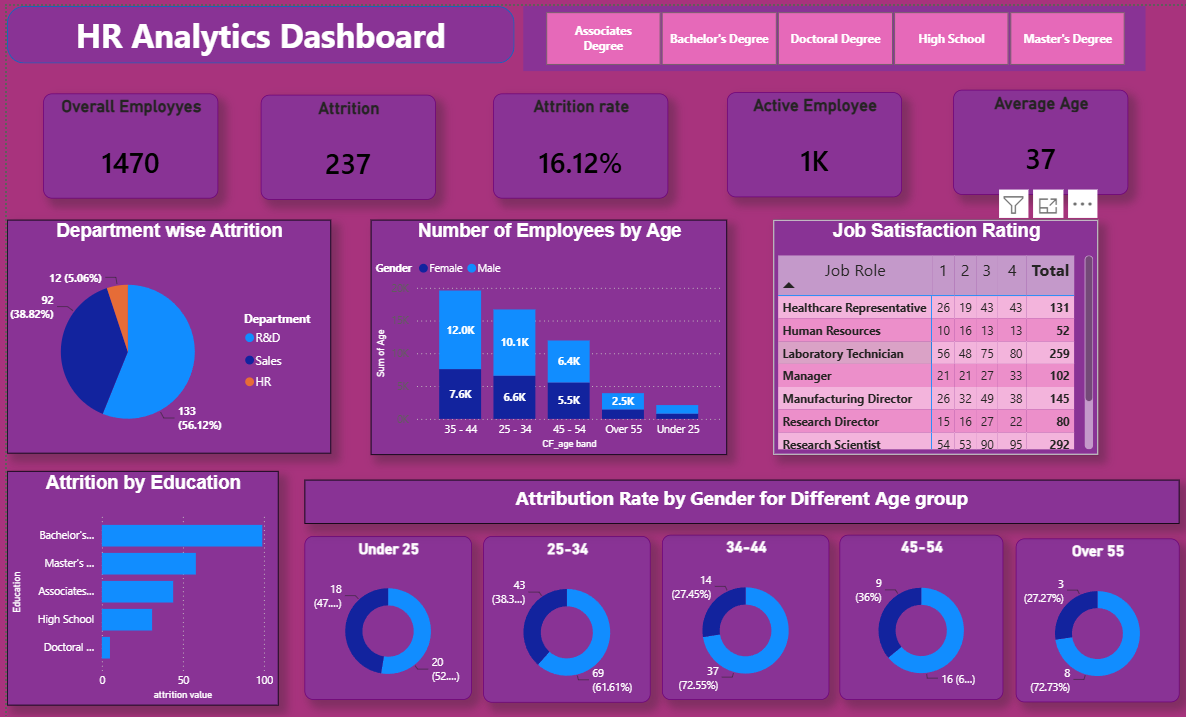

The dashboard page shown, as its layout file describes it:
{"tool":"powerbi","page":{"name":"Page 1","canvas":[1350,820],"ordinal":0},"visuals":[{"type":"cardVisual","title":"Overall Employyes","fields":{"Data":["Count(Table1.Employee Number)"]},"box":[41.4,100,200,120],"z":0},{"type":"cardVisual","title":"Attrition","fields":{"Data":["Table1.attrition value"]},"box":[290,101.4,200,120],"z":1000},{"type":"cardVisual","title":"Attrition rate","fields":{"Data":["Table1.attrition rate"]},"box":[555.7,100,200,120],"z":2000},{"type":"cardVisual","title":"Active Employee","fields":{"Data":["Table1.Measure 3"]},"box":[822.9,98.6,200,120],"z":3000},{"type":"cardVisual","title":"Average Age","fields":{"Data":["Table1.average age"]},"box":[1081.4,95.7,200,120],"z":4000},{"type":"pieChart","title":" Department wise Attrition","fields":{"Y":["Table1.attrition value"],"Category":["Table1.Department"]},"box":[0,244.3,370,267.1],"z":5000},{"type":"pivotTable","title":"Job Satisfaction Rating ","fields":{"Rows":["Table1.Job Role"],"Columns":["Table1.Job Satisfaction"],"Values":["Sum(Table1.Employee Count)"]},"box":[875.7,244.3,371.4,268.6],"z":6000},{"type":"barChart","title":"Attrition by Education","fields":{"Category":["Table1.Education"],"Y":["Table1.attrition value"]},"box":[0,531.4,310,268],"z":7000},{"type":"columnChart","title":"Number of Employees by Age","fields":{"Series":["Table1.Gender"],"Y":["Sum(Table1.Age)"],"Category":["Table1.CF_age band"]},"box":[415.7,244.3,407.1,268.6],"z":8000},{"type":"donutChart","title":"Under 25","fields":{"Category":["Table1.Gender"],"Series":["Table1.CF_age band"],"Y":["Table1.attrition value"]},"box":[340,605.7,191.4,187.1],"z":9000},{"type":"shape","box":[0,0,580,65.7],"z":10000},{"type":"donutChart","title":"25-34","fields":{"Y":["Table1.attrition value"],"Category":["Table1.Gender"],"Series":["Table1.CF_age band"]},"box":[544.3,605.7,191.4,190],"z":11000},{"type":"donutChart","title":"34-44","fields":{"Y":["Table1.attrition value"],"Category":["Table1.Gender"],"Series":["Table1.CF_age band"]},"box":[748.6,604.3,191.4,188.6],"z":12000},{"type":"donutChart","title":"45-54","fields":{"Category":["Table1.Gender"],"Series":["Table1.CF_age band"],"Y":["Table1.attrition value"]},"box":[951.4,604.3,187.1,188.6],"z":13000},{"type":"donutChart","title":"Over 55","fields":{"Y":["Table1.attrition value"],"Category":["Table1.Gender"],"Series":["Table1.CF_age band"]},"box":[1152.9,608.6,187.1,187.1],"z":14000},{"type":"textbox","box":[340,541.4,1000,50],"z":15000},{"type":"slicer","fields":{"Values":["Table1.Education"]},"box":[590,0,711.4,74.3],"z":16000}]}

Visuals, with their boxes in screenshot pixels (x1, y1, x2, y2), scaled from the page's 1350x820 canvas onto the 1186x717 screenshot:
"Overall Employyes" cardVisual: 36, 87, 212, 192
"Attrition" cardVisual: 255, 89, 430, 194
"Attrition rate" cardVisual: 488, 87, 664, 192
"Active Employee" cardVisual: 723, 86, 899, 191
"Average Age" cardVisual: 950, 84, 1126, 189
" Department wise Attrition" pieChart: 0, 214, 325, 447
"Job Satisfaction Rating " pivotTable: 769, 214, 1096, 448
"Attrition by Education" barChart: 0, 465, 272, 699
"Number of Employees by Age" columnChart: 365, 214, 723, 448
"Under 25" donutChart: 299, 530, 467, 693
shape: 0, 0, 510, 57
"25-34" donutChart: 478, 530, 646, 696
"34-44" donutChart: 658, 528, 826, 693
"45-54" donutChart: 836, 528, 1000, 693
"Over 55" donutChart: 1013, 532, 1177, 696
textbox: 299, 473, 1177, 517
slicer - Table1.Education: 518, 0, 1143, 65
